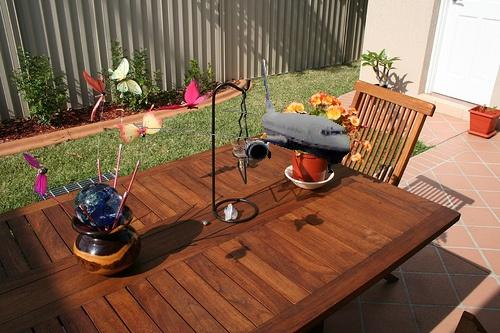tampered: (138, 60, 350, 173)
